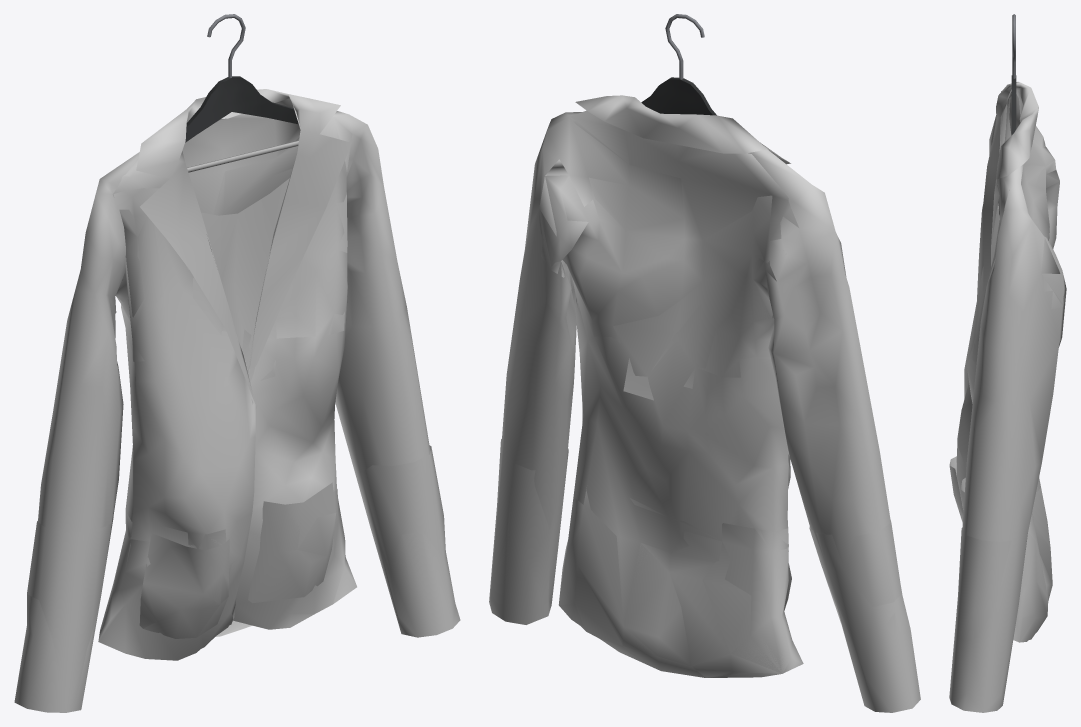
File: suitjacket-1.FBX
3 views of the same model, side by side, from view 1: azimuth 30°, elevation 25°; view 2: azimuth 150°, elevation 25°; view 3: azimuth 270°, elevation 25° (orthographic). The views are drawn at different scales.
Visible parts, largest first — view 1: suitjacket-1_LOD0, _Hanger-3_LOD0; view 2: suitjacket-1_LOD0, _Hanger-3_LOD0; view 3: suitjacket-1_LOD0, _Hanger-3_LOD0.
Part boxes in pixels (<box>): suitjacket-1_LOD0: <box>14,89,460,712</box>; _Hanger-3_LOD0: <box>185,14,298,172</box>; suitjacket-1_LOD0: <box>489,95,920,712</box>; _Hanger-3_LOD0: <box>641,14,716,115</box>; suitjacket-1_LOD0: <box>949,82,1066,712</box>; _Hanger-3_LOD0: <box>1011,14,1016,134</box>.
Size of what is drawn, in the model's own units: 52.44 by 13.3 by 75.86.
